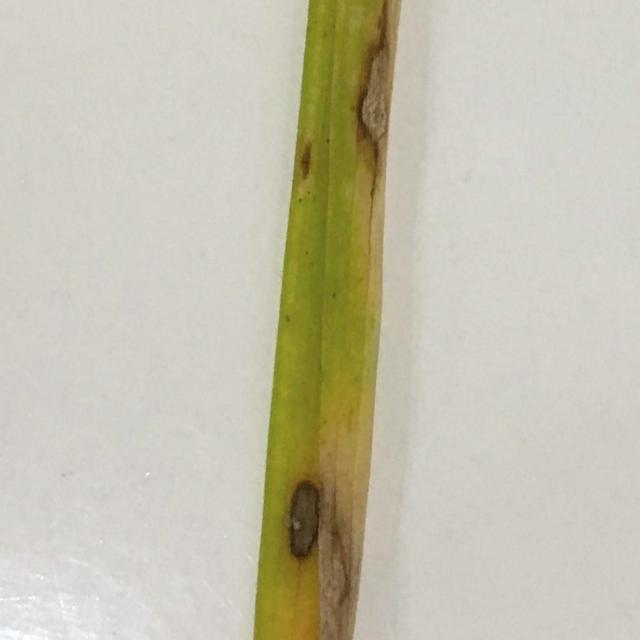Leaf_Blast: (273, 429, 349, 586), (353, 8, 412, 194), (289, 129, 317, 185)
